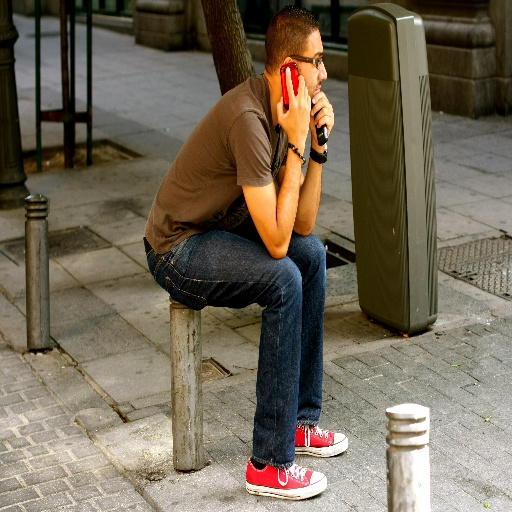hand: (277, 64, 318, 146), (308, 87, 334, 149)
